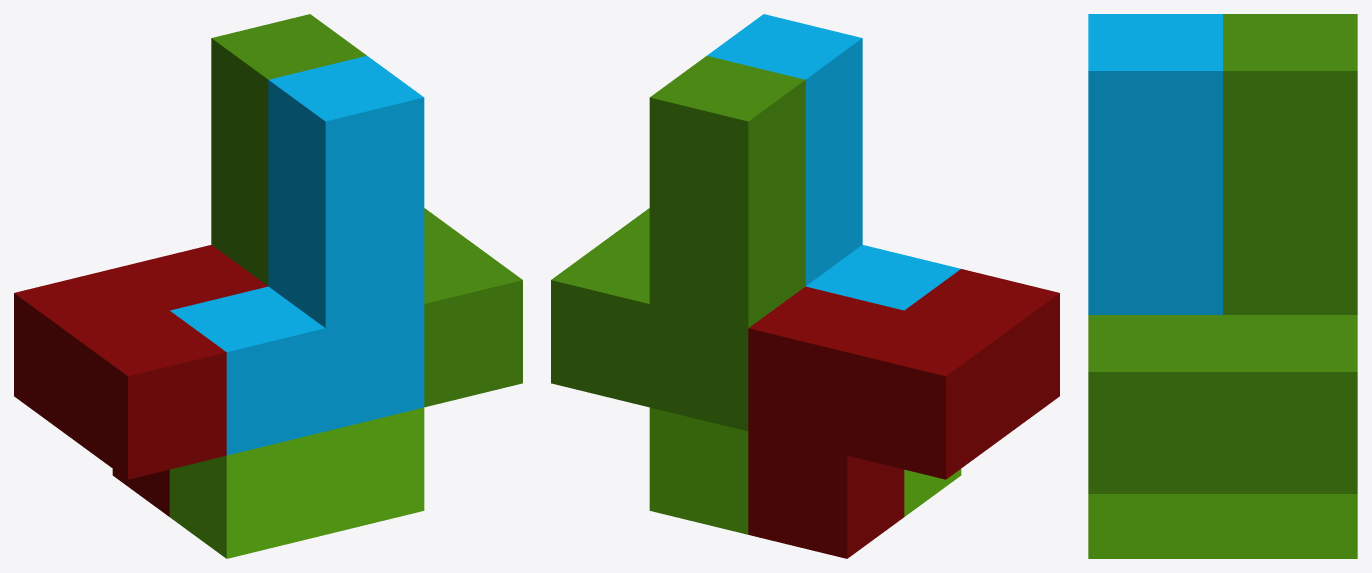
3 renders of one model, left to right at view 1: azimuth 30°, elevation 25°; view 2: azimuth 150°, elevation 25°; view 3: azimuth 270°, elevation 25°, orthographic. The views are drawn at different scales.
Visible parts, largest first — view 1: mergedBlocks(Clone); view 2: mergedBlocks(Clone); view 3: mergedBlocks(Clone).
Boxes of the visible parts, x1,y1,x2,y2 form: mergedBlocks(Clone): [14, 14, 522, 558]; mergedBlocks(Clone): [551, 14, 1059, 558]; mergedBlocks(Clone): [1088, 14, 1357, 558].
Size of the model in its own units: 4 by 4 by 2.
4 materials, 4 textured.
